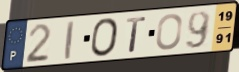2: (25, 22, 52, 64)
9: (184, 9, 214, 50)
I: (64, 19, 76, 62)
O: (90, 17, 120, 59), (154, 12, 184, 52)
T: (125, 15, 147, 54)
